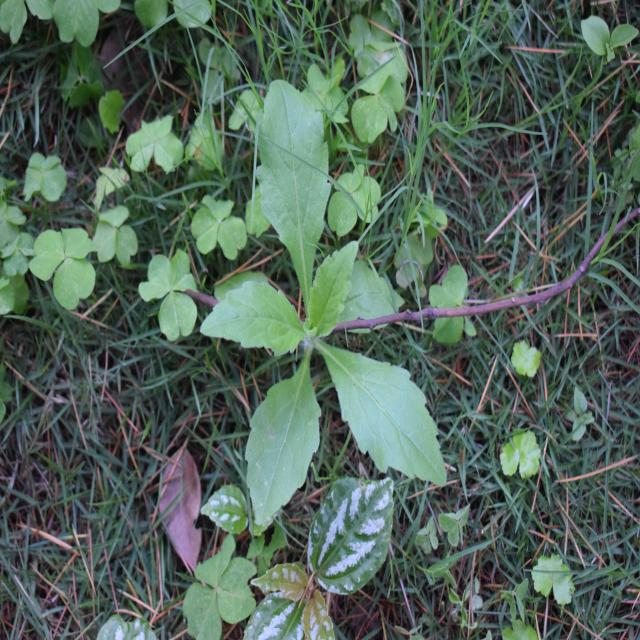horseweed: (217, 78, 457, 502)
